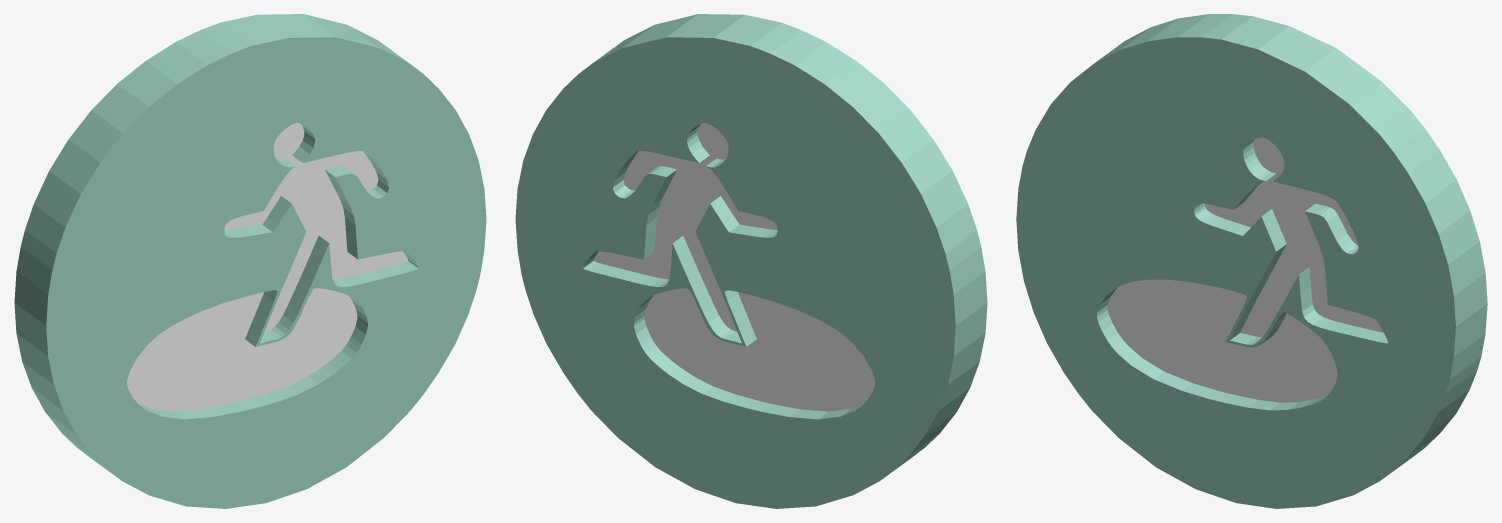
Rendered from hinan-camp-marker.fbx.
3 views of the same model, side by side, from view 1: azimuth 30°, elevation 25°; view 2: azimuth 150°, elevation 25°; view 3: azimuth 330°, elevation 25° (orthographic).
Visible parts, largest first — view 1: obj_0.006; view 2: obj_0.006; view 3: obj_0.006.
Part boxes in pixels (x1,y1,x2,y2): obj_0.006: (14, 14, 486, 508); obj_0.006: (515, 14, 987, 508); obj_0.006: (1016, 14, 1487, 508).
Bounding box in the file's own units: 4000 × 4000 × 500.
